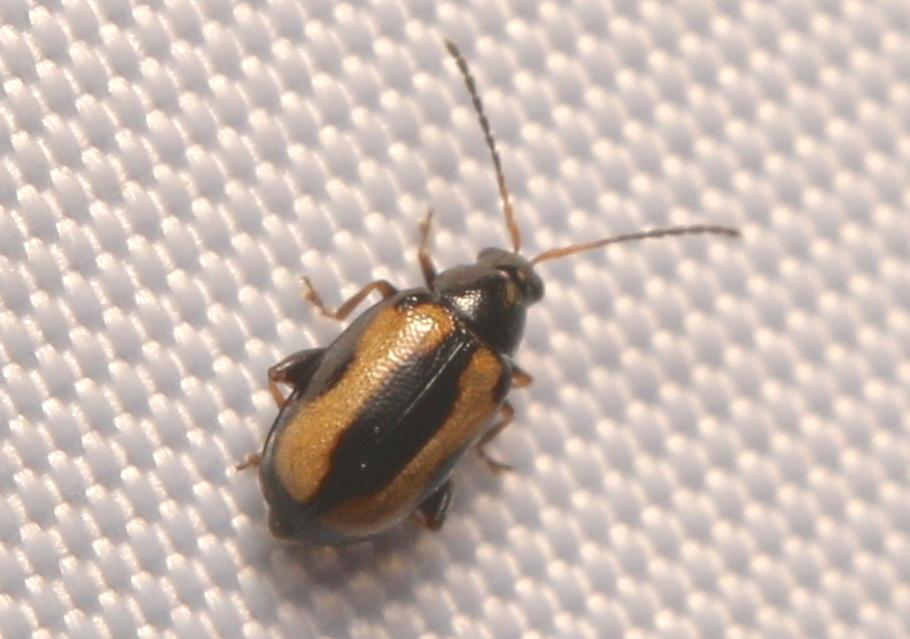flea_beetle: (204, 1, 780, 639)
